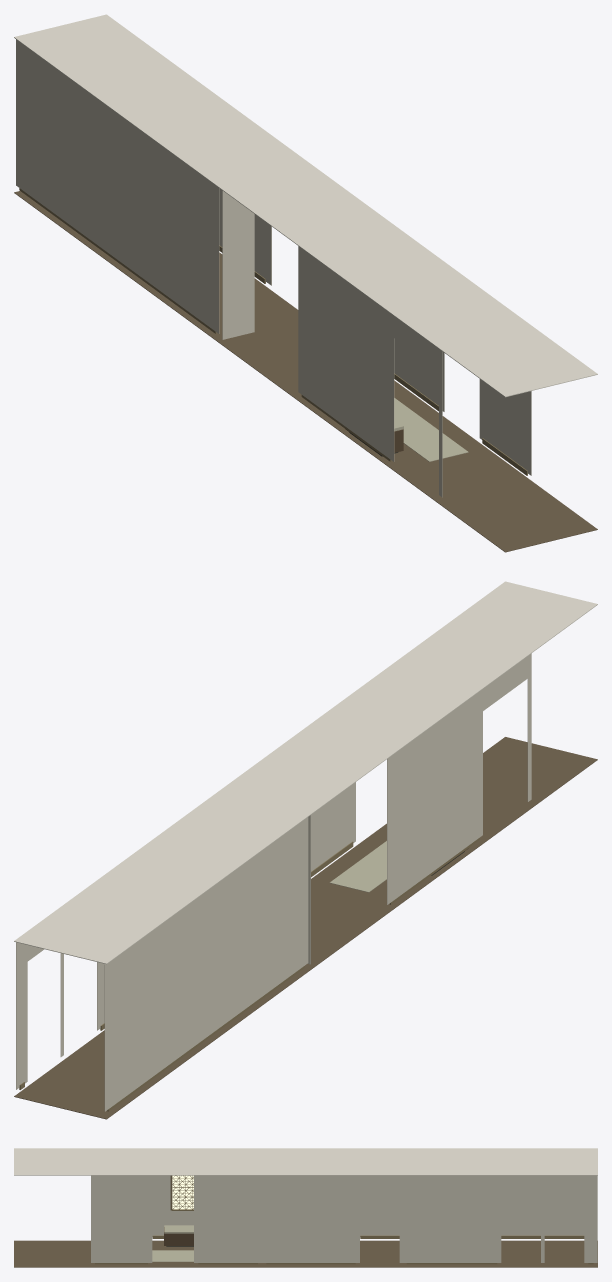
File: corridor-3.glb
3 views of the same model, one above another, from view 1: azimuth 30°, elevation 25°; view 2: azimuth 150°, elevation 25°; view 3: azimuth 270°, elevation 25° (orthographic). The views are drawn at different scales.
Visible parts, largest first — view 1: DESIGN | Entrance coordinated ceiling, DESIGN | Entrance paired wall finish, DESIGN | Entrance floor finish, DESIGN | Entrance paired wall finish.003, DESIGN | Arch approach finish, DESIGN | Entrance paired wall finish.013, DESIGN | Entrance quiet runner, DESIGN | Entrance paired wall finish.012, DESIGN | Entrance paired wall finish.006, DESIGN | Entrance paired wall finish.002; view 2: DESIGN | Entrance coordinated ceiling, DESIGN | Entrance paired wall finish, DESIGN | Entrance floor finish, DESIGN | Entrance paired wall finish.003, DESIGN | Entrance paired wall finish.012, DESIGN | Entrance paired wall finish.005, DESIGN | Entrance quiet runner, DESIGN | Entrance paired wall finish.002, DESIGN | Entrance paired wall finish.001; view 3: DESIGN | Entrance coordinated ceiling, DESIGN | Entrance paired wall finish.006, DESIGN | Entrance paired wall finish.009, DESIGN | Entrance floor finish, DESIGN | Entrance paired wall finish.012, DESIGN | Entrance paired wall finish, DESIGN | Entrance paired wall finish.013, DESIGN | Entrance paired wall finish.003, DESIGN | Entrance paired wall finish.005, DESIGN | Kumiko opal diffuser, DESIGN | Entrance paired wall finish.007, DESIGN | Entrance paired wall finish.010 (+8 smaller).
Part boxes in pixels (x1=…): DESIGN | Entrance coordinated ceiling: x1=14, y1=14, x2=597, y2=397; DESIGN | Entrance paired wall finish: x1=16, y1=39, x2=219, y2=333; DESIGN | Entrance floor finish: x1=14, y1=191, x2=597, y2=552; DESIGN | Entrance paired wall finish.003: x1=298, y1=246, x2=394, y2=461; DESIGN | Arch approach finish: x1=222, y1=190, x2=254, y2=339; DESIGN | Entrance paired wall finish.013: x1=479, y1=379, x2=531, y2=475; DESIGN | Entrance quiet runner: x1=394, y1=398, x2=468, y2=461; DESIGN | Entrance paired wall finish.012: x1=394, y1=339, x2=444, y2=411; DESIGN | Entrance paired wall finish.006: x1=219, y1=188, x2=268, y2=283; DESIGN | Entrance paired wall finish.002: x1=394, y1=316, x2=438, y2=370; DESIGN | Entrance coordinated ceiling: x1=14, y1=581, x2=597, y2=964; DESIGN | Entrance paired wall finish: x1=104, y1=817, x2=308, y2=1111; DESIGN | Entrance floor finish: x1=14, y1=737, x2=597, y2=1119; DESIGN | Entrance paired wall finish.003: x1=387, y1=689, x2=482, y2=904; DESIGN | Entrance paired wall finish.012: x1=311, y1=782, x2=355, y2=871; DESIGN | Entrance paired wall finish.005: x1=16, y1=942, x2=27, y2=1089; DESIGN | Entrance quiet runner: x1=329, y1=841, x2=386, y2=892; DESIGN | Entrance paired wall finish.002: x1=483, y1=656, x2=527, y2=710; DESIGN | Entrance paired wall finish.001: x1=527, y1=653, x2=531, y2=801; DESIGN | Entrance coordinated ceiling: x1=14, y1=1148, x2=597, y2=1175; DESIGN | Entrance paired wall finish.006: x1=402, y1=1175, x2=501, y2=1262; DESIGN | Entrance paired wall finish.009: x1=262, y1=1175, x2=359, y2=1262; DESIGN | Entrance floor finish: x1=14, y1=1240, x2=597, y2=1267; DESIGN | Entrance paired wall finish.012: x1=194, y1=1175, x2=262, y2=1262; DESIGN | Entrance paired wall finish: x1=360, y1=1176, x2=584, y2=1236; DESIGN | Entrance paired wall finish.013: x1=91, y1=1175, x2=152, y2=1262; DESIGN | Entrance paired wall finish.003: x1=152, y1=1175, x2=193, y2=1236; DESIGN | Entrance paired wall finish.005: x1=584, y1=1175, x2=597, y2=1262; DESIGN | Kumiko opal diffuser: x1=172, y1=1175, x2=193, y2=1209; DESIGN | Entrance paired wall finish.007: x1=501, y1=1175, x2=540, y2=1191; DESIGN | Entrance paired wall finish.010: x1=360, y1=1175, x2=399, y2=1191.
Size of the model in its own units: 1.7 by 2.73 by 15.61.
